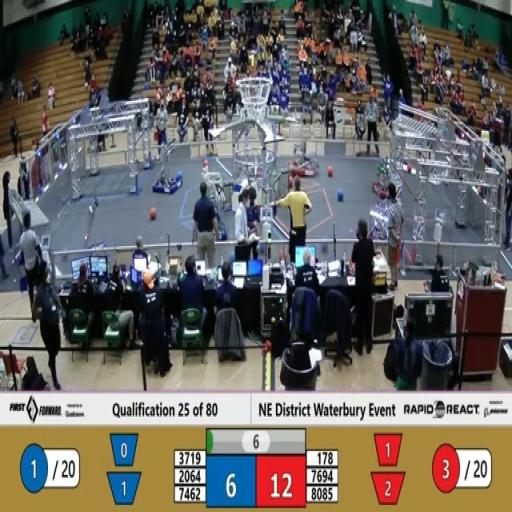robot: (75, 193, 109, 264), (153, 134, 183, 198), (199, 166, 224, 240), (289, 132, 321, 179), (371, 152, 398, 198), (369, 197, 397, 240)
